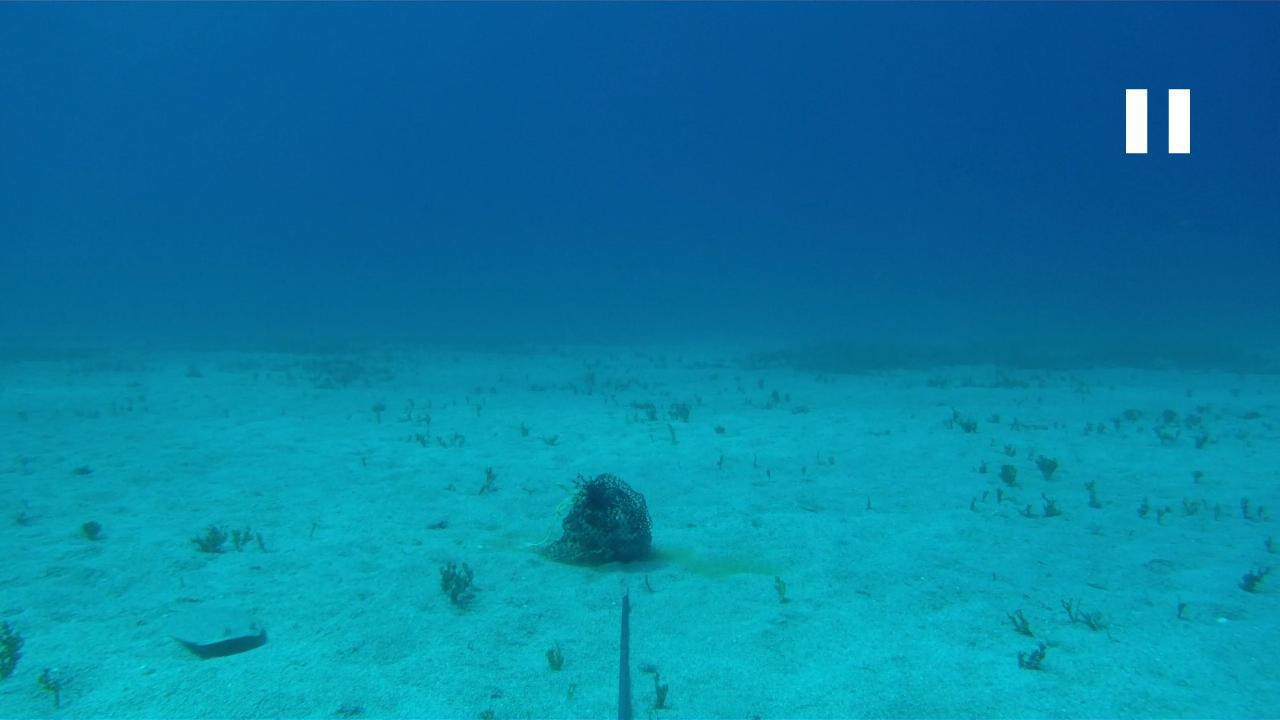bothus: (164, 599, 267, 660)
